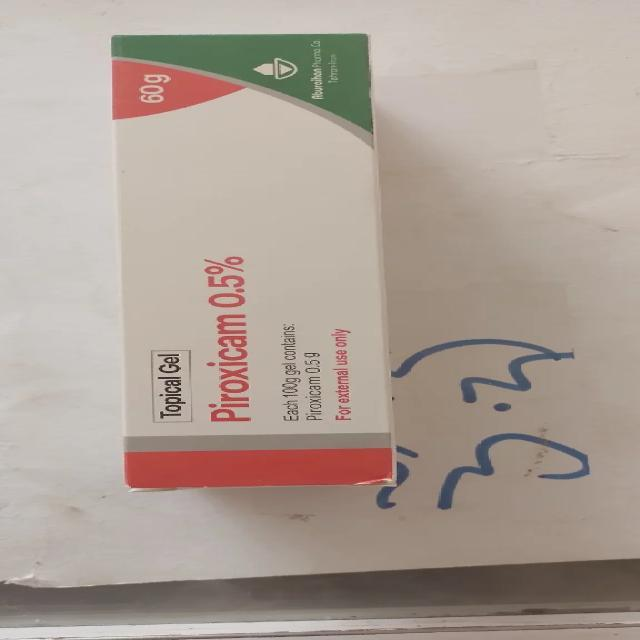drug-name: (197, 248, 263, 426)
